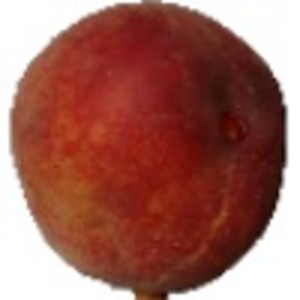pêssego: (8, 1, 289, 300)
